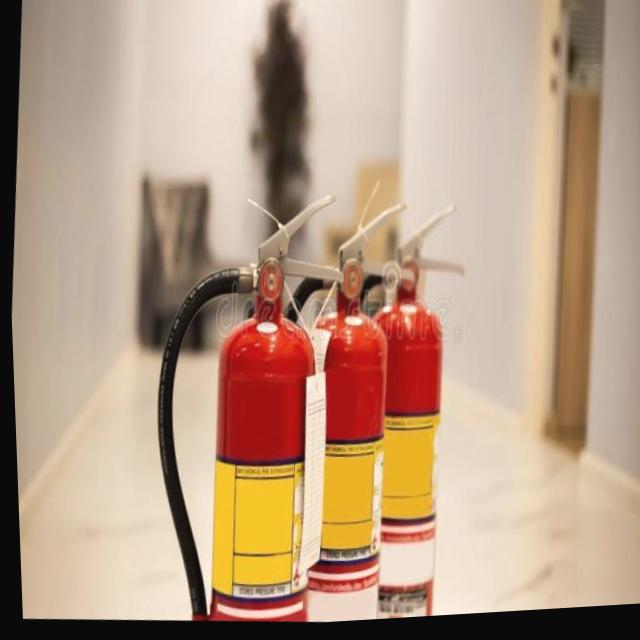FireExtinguisher: (129, 176, 362, 633), (237, 188, 429, 629), (292, 193, 482, 627)
